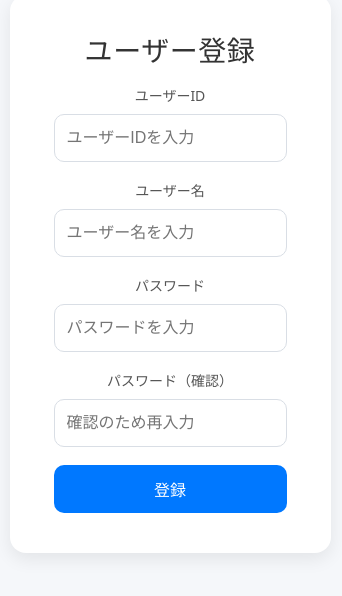
Test: RegistUser Component › ユーザー登録API失敗時（400エラー）、エラーメッセージが表示されることを確認
This screenshot has width=342, height=596.
Type "registErrorUser" into the field with placeholder "ユーザーIDを入力" at {"x": 170, "y": 138}, box [54,114,286,162]
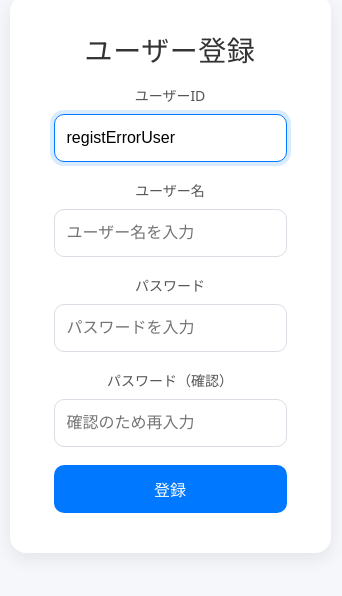
Type "registErrorUserName" into the field with placeholder "ユーザー名を入力" at {"x": 170, "y": 233}, box [54,209,286,257]
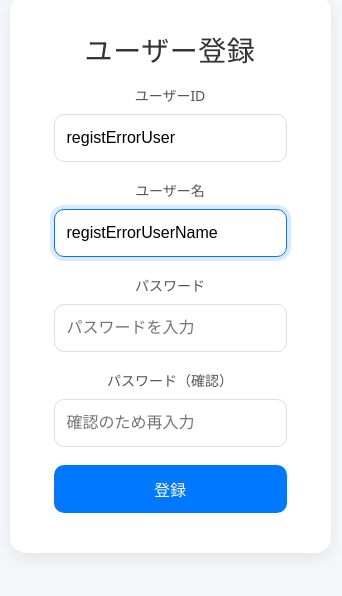
Type "registErrorPassword" into the password field with placeholder "パスワードを入力" at {"x": 170, "y": 328}, box [54,304,286,352]
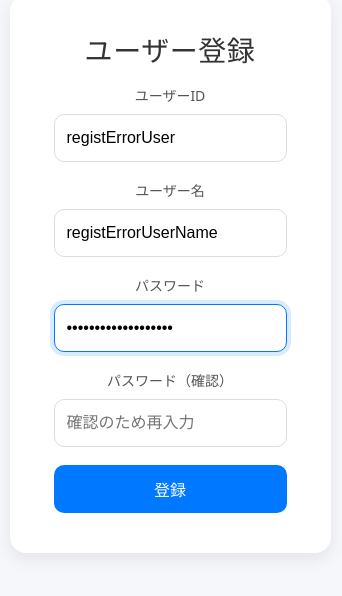
Type "registErrorPassword" into the password field with placeholder "確認のため再入力" at {"x": 170, "y": 423}, box [54,399,286,447]
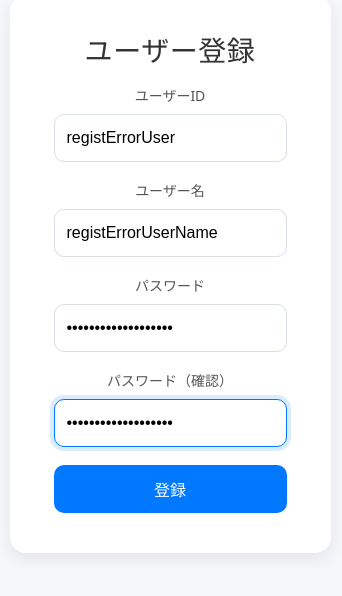
Click the button "登録" at {"x": 170, "y": 489}, box [54,465,286,513]
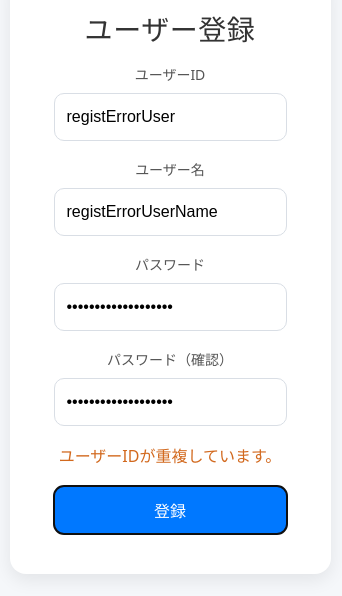
expect the text "ユーザーIDが重複しています。" is shown: met, box [54,444,286,468]
